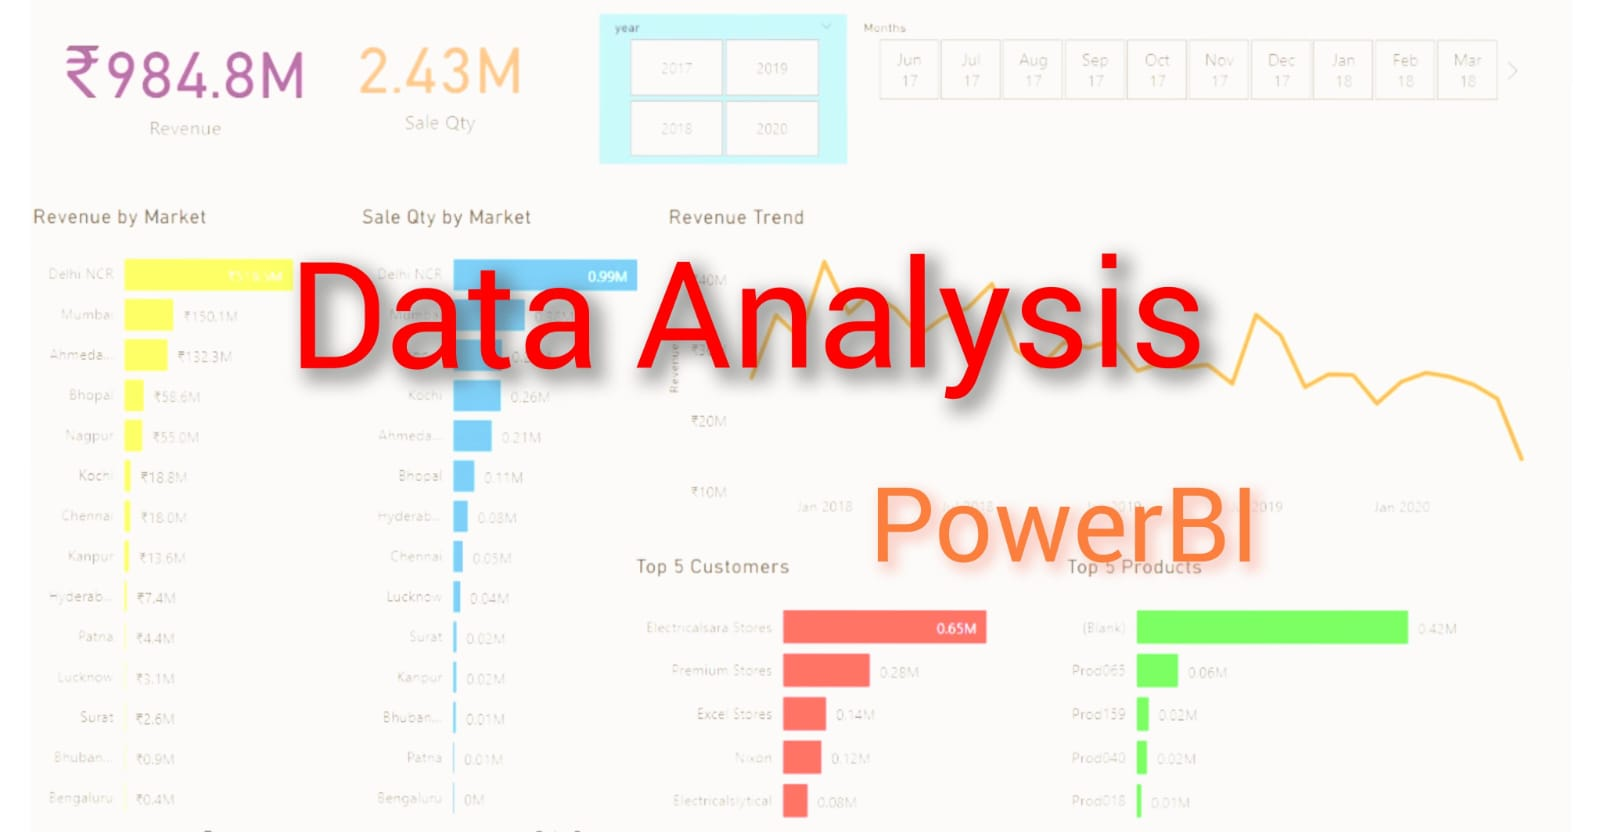

Layout of this report page (visuals, bound fields, positions):
{"tool":"powerbi","page":{"name":"Duplicate of Page 1","canvas":[1280,720],"ordinal":1},"visuals":[{"type":"card","fields":{"Values":["BaseMeasures.Revenue"]},"box":[0,77.9,239.4,122],"z":0},{"type":"card","fields":{"Values":["BaseMeasures.Sale Qty"]},"box":[231.2,84.8,189.4,110.4],"z":1000},{"type":"clusteredBarChart","title":"Revenue by Market","fields":{"Y":["BaseMeasures.Revenue"],"Category":["sales markets.markets_name"]},"box":[0,226.5,271.5,493.5],"z":2000},{"type":"clusteredBarChart","title":"Sale Qty by Market","fields":{"Y":["BaseMeasures.Sale Qty"],"Category":["sales markets.markets_name"]},"box":[271.5,226.5,242.3,493.5],"z":3000},{"type":"slicer","fields":{"Values":["sales date.year"]},"box":[472.1,77.7,241.1,117.2],"z":4000},{"type":"slicer","fields":{"Values":["sales date.cy_date"]},"box":[730.8,78.1,549.8,82.3],"z":5000},{"type":"clusteredBarChart","title":"Top 5 Customers","fields":{"Category":["sales customers.custmer_name"],"Y":["BaseMeasures.Sale Qty"]},"box":[567.9,472.1,339.2,247.9],"z":6000},{"type":"clusteredBarChart","title":"Top 5 Products","fields":{"Category":["sales products.product_code"],"Y":["BaseMeasures.Sale Qty"]},"box":[939.7,472.1,340.3,247.9],"z":7000},{"type":"lineChart","title":"Revenue Trend","fields":{"Y":["BaseMeasures.Revenue"],"Category":["sales date.cy_date.Variation.Date Hierarchy.Year","sales date.cy_date.Variation.Date Hierarchy.Quarter","sales date.cy_date.Variation.Date Hierarchy.Month","sales date.cy_date.Variation.Date Hierarchy.Day"]},"box":[551.2,205.7,711.6,229],"z":8000},{"type":"actionButton","box":[1237.2,0,42.8,38.3],"z":9000},{"type":"textbox","box":[174.3,10.5,935.4,54.6],"z":9001}]}

Visuals, with their boxes on the page's 1280x720 design canvas (x1, y1, x2, y2). These are canvas units, not pixel positions in the 1600x832 screenshot, which may show the page scaled, cropped or inside an application window:
card - BaseMeasures.Revenue: 0:78:239:200
card - BaseMeasures.Sale Qty: 231:85:421:195
"Revenue by Market" clusteredBarChart: 0:226:272:720
"Sale Qty by Market" clusteredBarChart: 272:226:514:720
slicer - sales date.year: 472:78:713:195
slicer - sales date.cy_date: 731:78:1281:160
"Top 5 Customers" clusteredBarChart: 568:472:907:720
"Top 5 Products" clusteredBarChart: 940:472:1280:720
"Revenue Trend" lineChart: 551:206:1263:435
actionButton: 1237:0:1280:38
textbox: 174:10:1110:65
